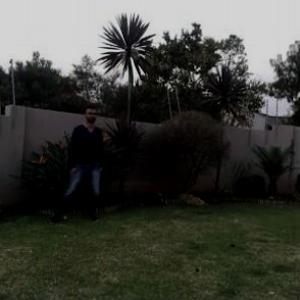follow: (68, 102, 104, 224)
